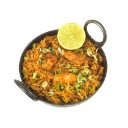briyani: (26, 41, 94, 99)
